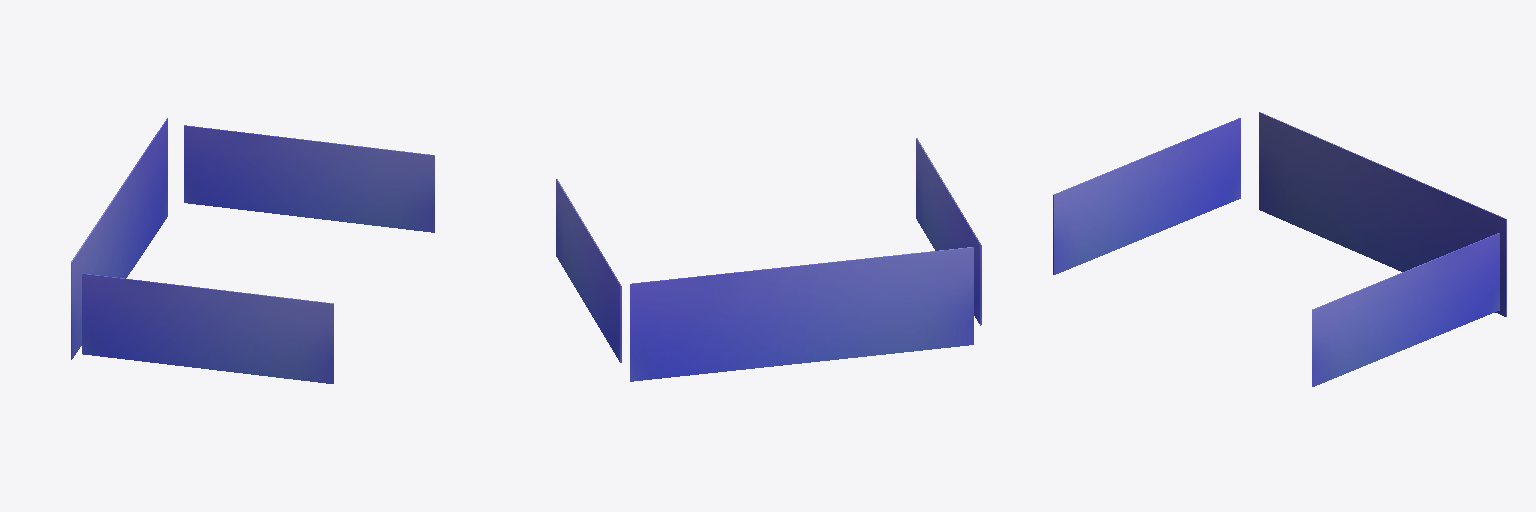
The picture shows the model from 3 angles: view 1: azimuth 30°, elevation 25°; view 2: azimuth 150°, elevation 25°; view 3: azimuth 270°, elevation 25°; orthographic projection.
Visible parts, largest first — view 1: group252 group250 group251 carro3VIDRIO:pasted__pasted__tirespas, carro3VIDRIO:pasted__pasted__tirespasted__pasted__group4pasted__; view 2: carro3VIDRIO:pasted__pasted__tirespasted__pasted__group4pasted__, group252 group250 group251 carro3VIDRIO:pasted__pasted__tirespas; view 3: group252 group250 group251 carro3VIDRIO:pasted__pasted__tirespas, carro3VIDRIO:pasted__pasted__tirespasted__pasted__group4pasted__.
Part boxes in pixels (x1,y1,x2,y2): group252 group250 group251 carro3VIDRIO:pasted__pasted__tirespas: (82,125,434,383); carro3VIDRIO:pasted__pasted__tirespasted__pasted__group4pasted__: (71,118,167,359); carro3VIDRIO:pasted__pasted__tirespasted__pasted__group4pasted__: (630,247,973,381); group252 group250 group251 carro3VIDRIO:pasted__pasted__tirespas: (556,138,981,362); group252 group250 group251 carro3VIDRIO:pasted__pasted__tirespas: (1053,118,1499,386); carro3VIDRIO:pasted__pasted__tirespasted__pasted__group4pasted__: (1259,112,1506,316).
Bounding box in the file's own units: 1.16 × 0.2762 × 1.16.
3 materials, 1 textured.